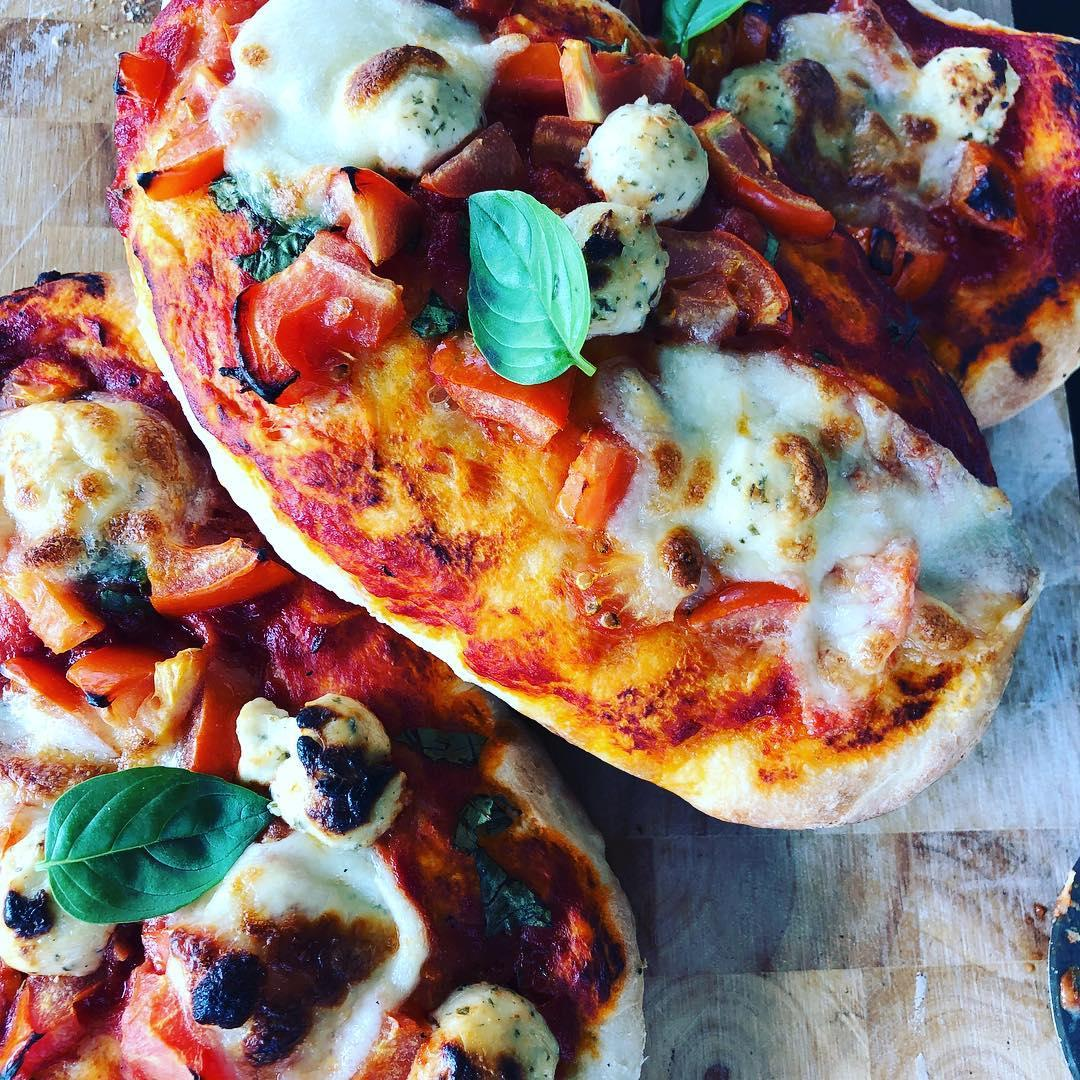Basil: (36, 765, 275, 927), (458, 184, 600, 390), (663, 0, 748, 63)
Cheese: (210, 877, 371, 1032), (669, 390, 803, 562), (259, 22, 424, 158), (0, 419, 145, 523), (591, 106, 700, 212), (912, 52, 996, 186)
Peppers: (238, 167, 413, 411), (704, 111, 845, 239), (430, 337, 567, 437), (144, 535, 296, 612), (550, 418, 631, 536), (0, 987, 97, 1080), (61, 645, 163, 693)
Pizza: (0, 0, 1080, 1080)
